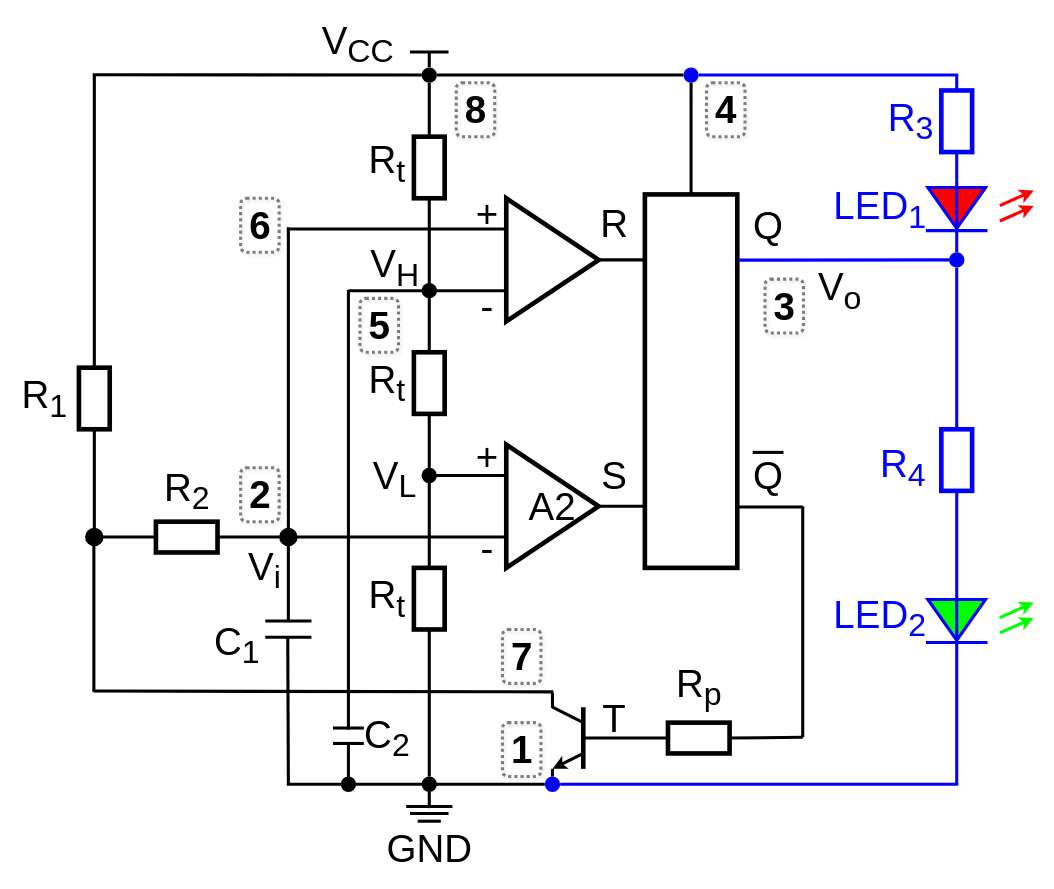
Image size: 1054x889. Some labels were removed from this diagram. The centre of each missing label's shape, as x and y in pixels:
A1: the point at 552,259
触 发 器: the point at 690,381
